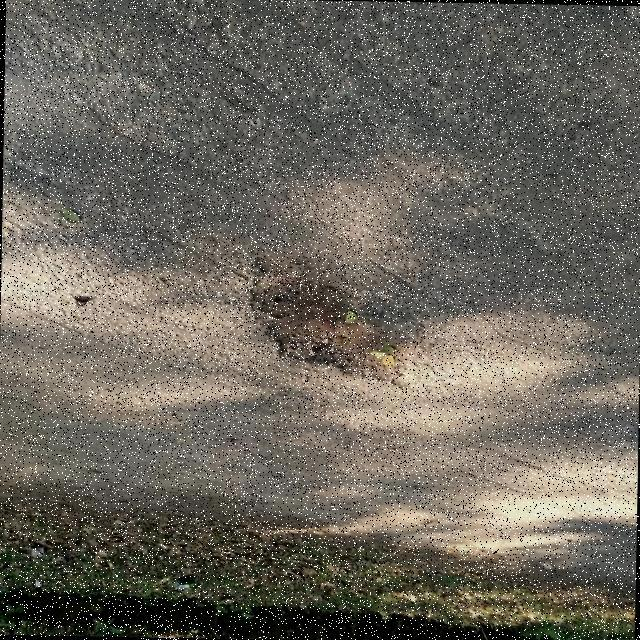Pothole: (247, 252, 479, 401)
